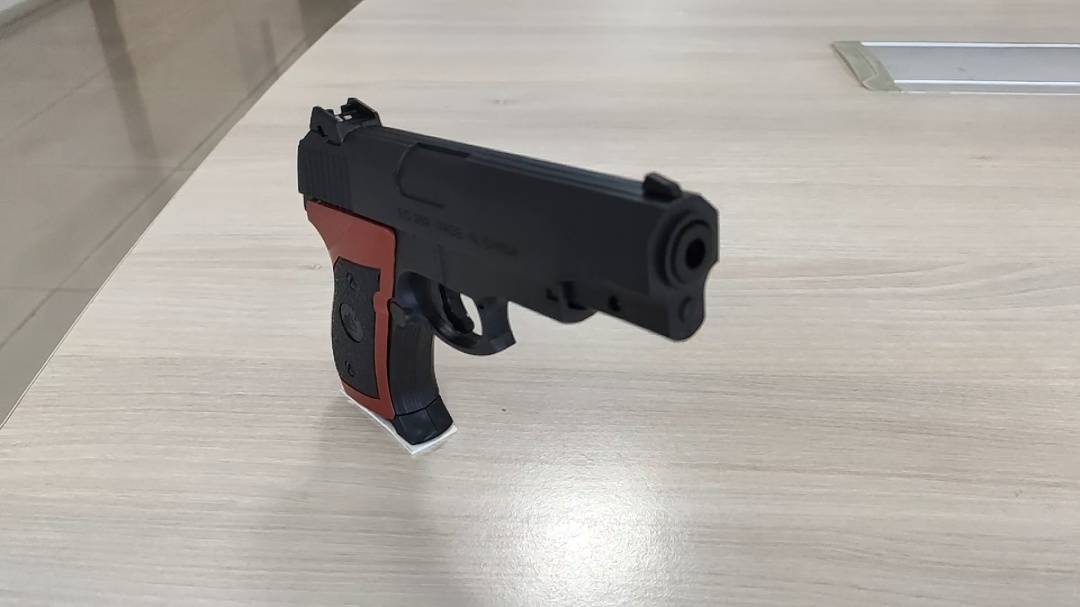gun: (294, 95, 724, 449)
